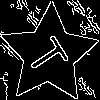T: (24, 29, 77, 80)
